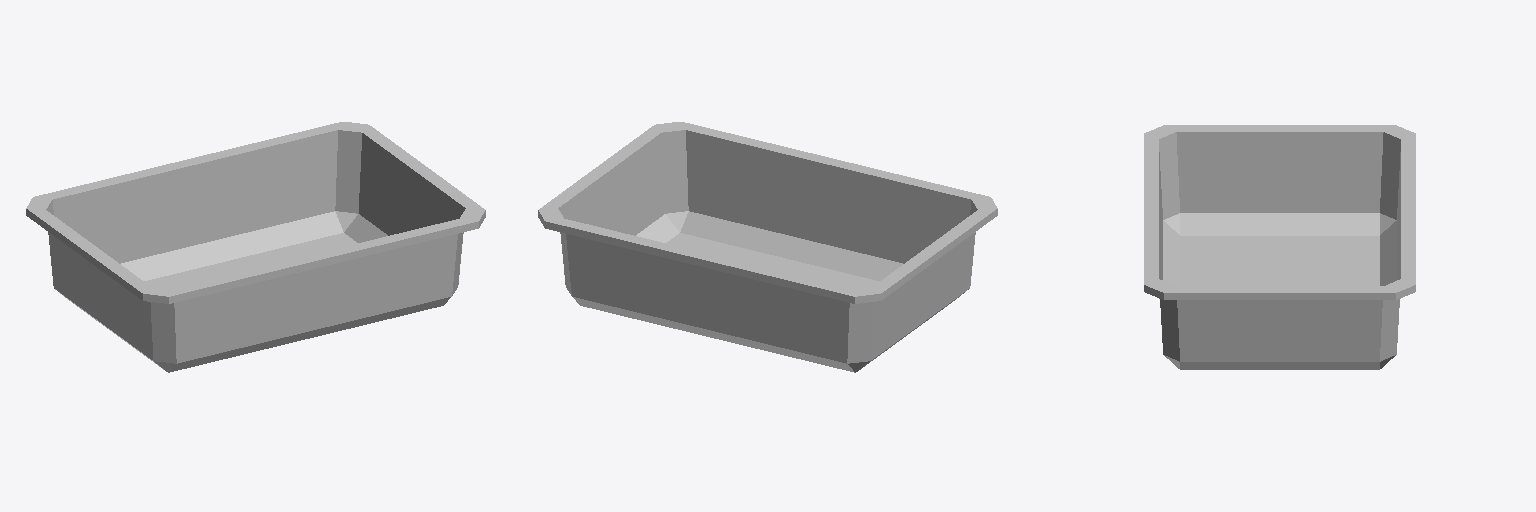
File: loaf_pan.obj
3 renders of one model, left to right at view 1: azimuth 30°, elevation 25°; view 2: azimuth 150°, elevation 25°; view 3: azimuth 270°, elevation 25°, orthographic.
Visible parts, largest first — view 1: loaf_pan_Cube.018; view 2: loaf_pan_Cube.018; view 3: loaf_pan_Cube.018.
Part boxes in pixels (x1,y1,x2,y2): loaf_pan_Cube.018: (26, 122, 485, 372); loaf_pan_Cube.018: (538, 122, 997, 372); loaf_pan_Cube.018: (1144, 125, 1415, 369).
Size of the model in its own units: 8.24 by 2.15 by 5.67.